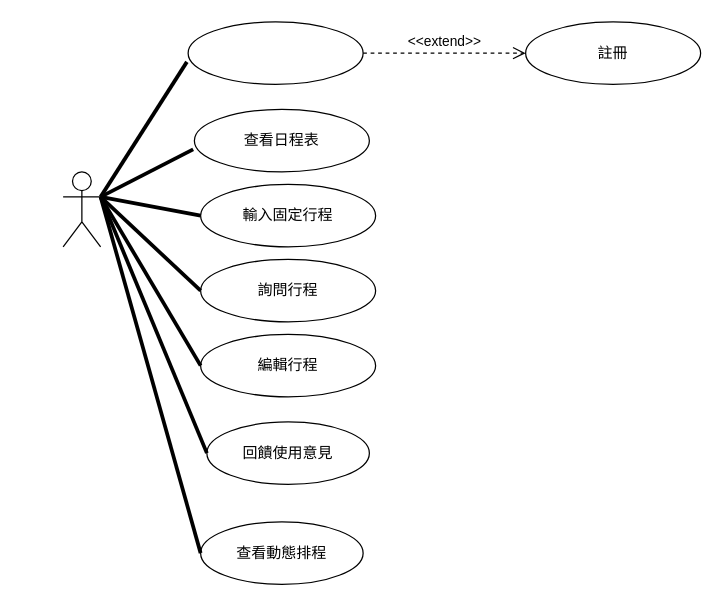
Some shapes in this 723 by 606 pixel diagram are drawn without their labels. The shapes that lost their labels are listed below. From the top down, each one's centre as x and y in pixels, then its label:
At pixel 275 52: "登入".
At pixel 81 209: "繁忙疏於管理的人".
